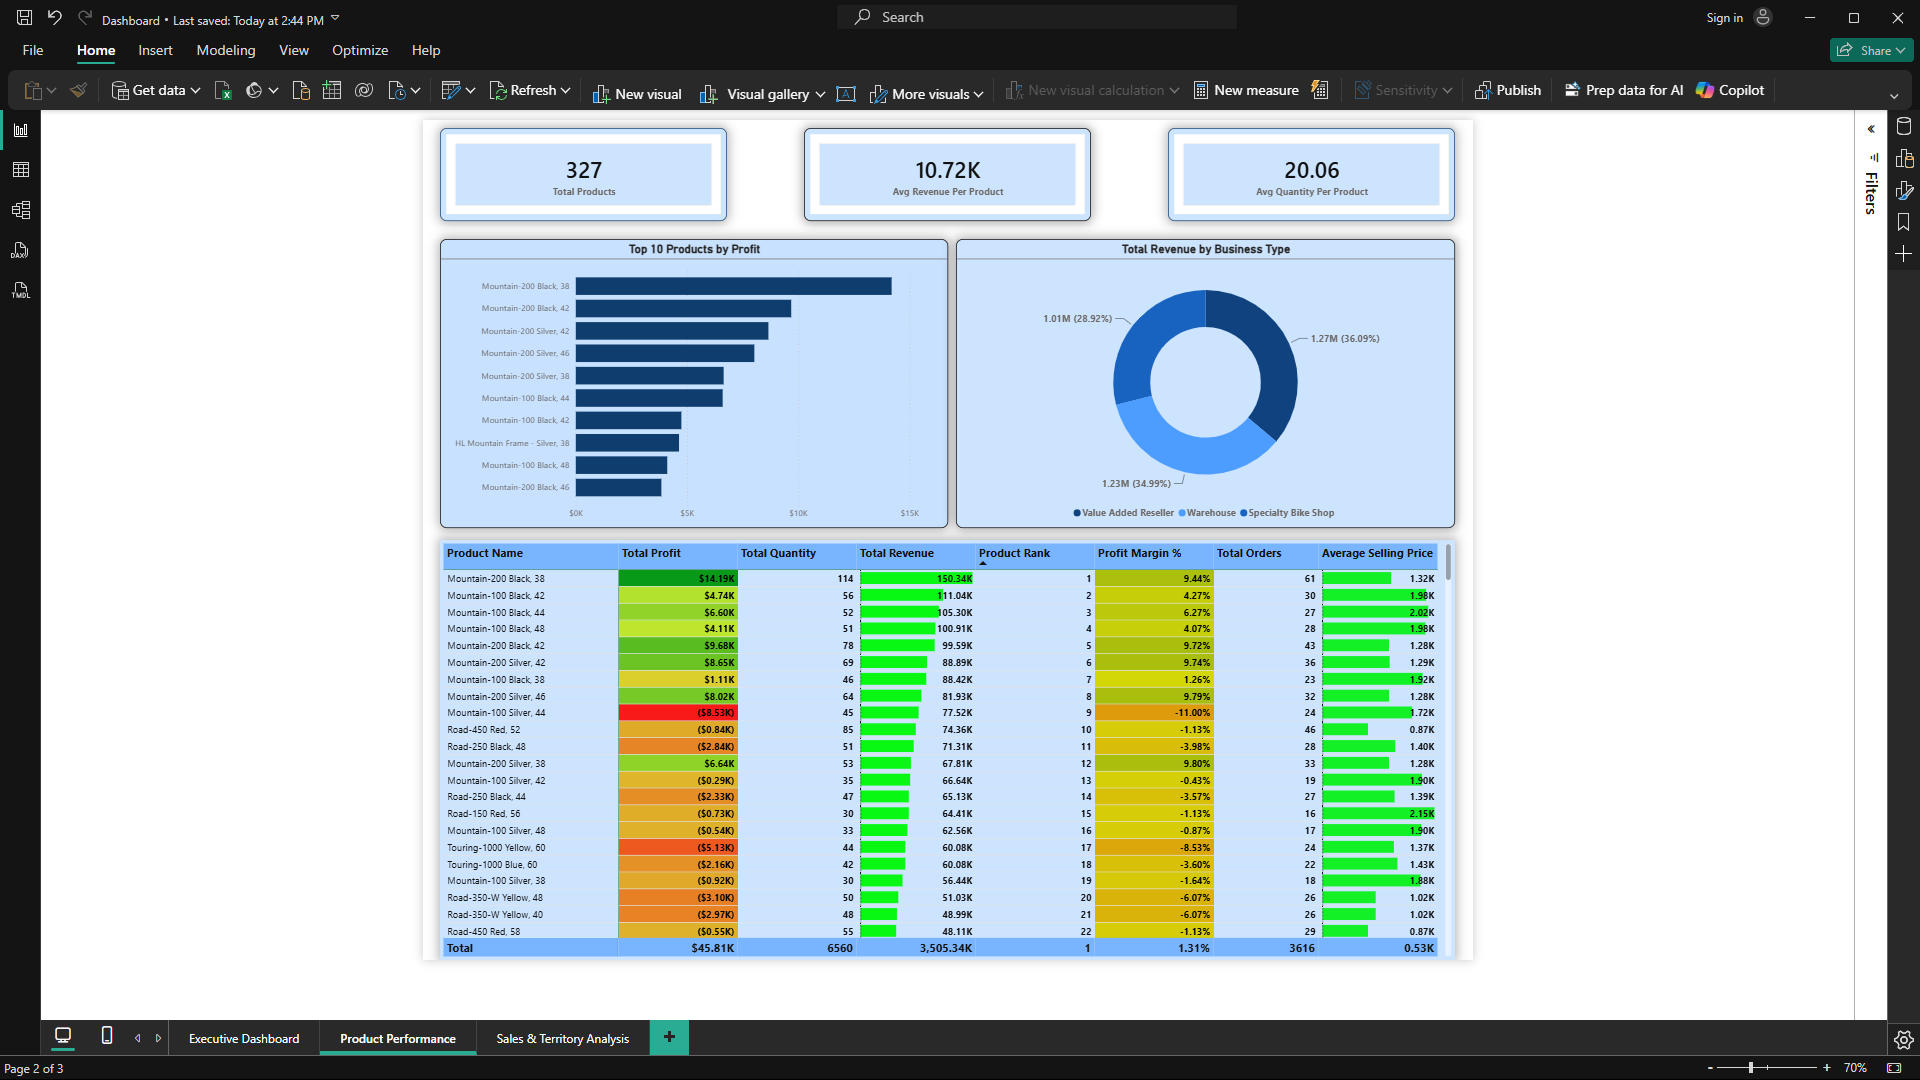

This screenshot's page, from the dashboard's own definition file:
{"tool":"powerbi","page":{"name":"Product Performance","canvas":[1500,1200],"ordinal":2},"visuals":[{"type":"cardVisual","fields":{"Data":["#Measures.Avg Quantity Per Product"]},"box":[1064.3,11.4,410,132.9],"z":0},{"type":"cardVisual","fields":{"Data":["#Measures.Avg Revenue Per Product"]},"box":[544.3,11.4,410,132.9],"z":1000},{"type":"cardVisual","fields":{"Data":["#Measures.Total Products"]},"box":[24.3,11.4,410,132.9],"z":2000},{"type":"barChart","title":"Top 10 Products by Profit","fields":{"Category":["Dim Product.Product Name"],"Y":["#Measures.Total Profit"]},"box":[24.3,170,725.7,412.9],"z":3000},{"type":"pivotTable","fields":{"Rows":["Dim Product.Product Name"],"Values":["#Measures.Total Profit","#Measures.Total Quantity","#Measures.Total Revenue","#Measures.Product Rank","#Measures.Profit Margin %","#Measures.Total Orders","#Measures.Average Selling Price"]},"box":[24.3,600,1450,600],"z":4000},{"type":"donutChart","fields":{"Y":["#Measures.Total Revenue"],"Category":["Dim Reseller.Business Type"]},"box":[761.4,170,712.9,412.9],"z":5000}]}

Visuals, with their boxes on the page's 1500x1200 design canvas (x1, y1, x2, y2). These are canvas units, not pixel positions in the 1920x1080 screenshot, which may show the page scaled, cropped or inside an application window:
cardVisual - #Measures.Avg Quantity Per Product: box(1064, 11, 1474, 144)
cardVisual - #Measures.Avg Revenue Per Product: box(544, 11, 954, 144)
cardVisual - #Measures.Total Products: box(24, 11, 434, 144)
"Top 10 Products by Profit" barChart: box(24, 170, 750, 583)
pivotTable - Dim Product.Product Name x #Measures.Total Profit: box(24, 600, 1474, 1200)
donutChart - #Measures.Total Revenue x Dim Reseller.Business Type: box(761, 170, 1474, 583)
